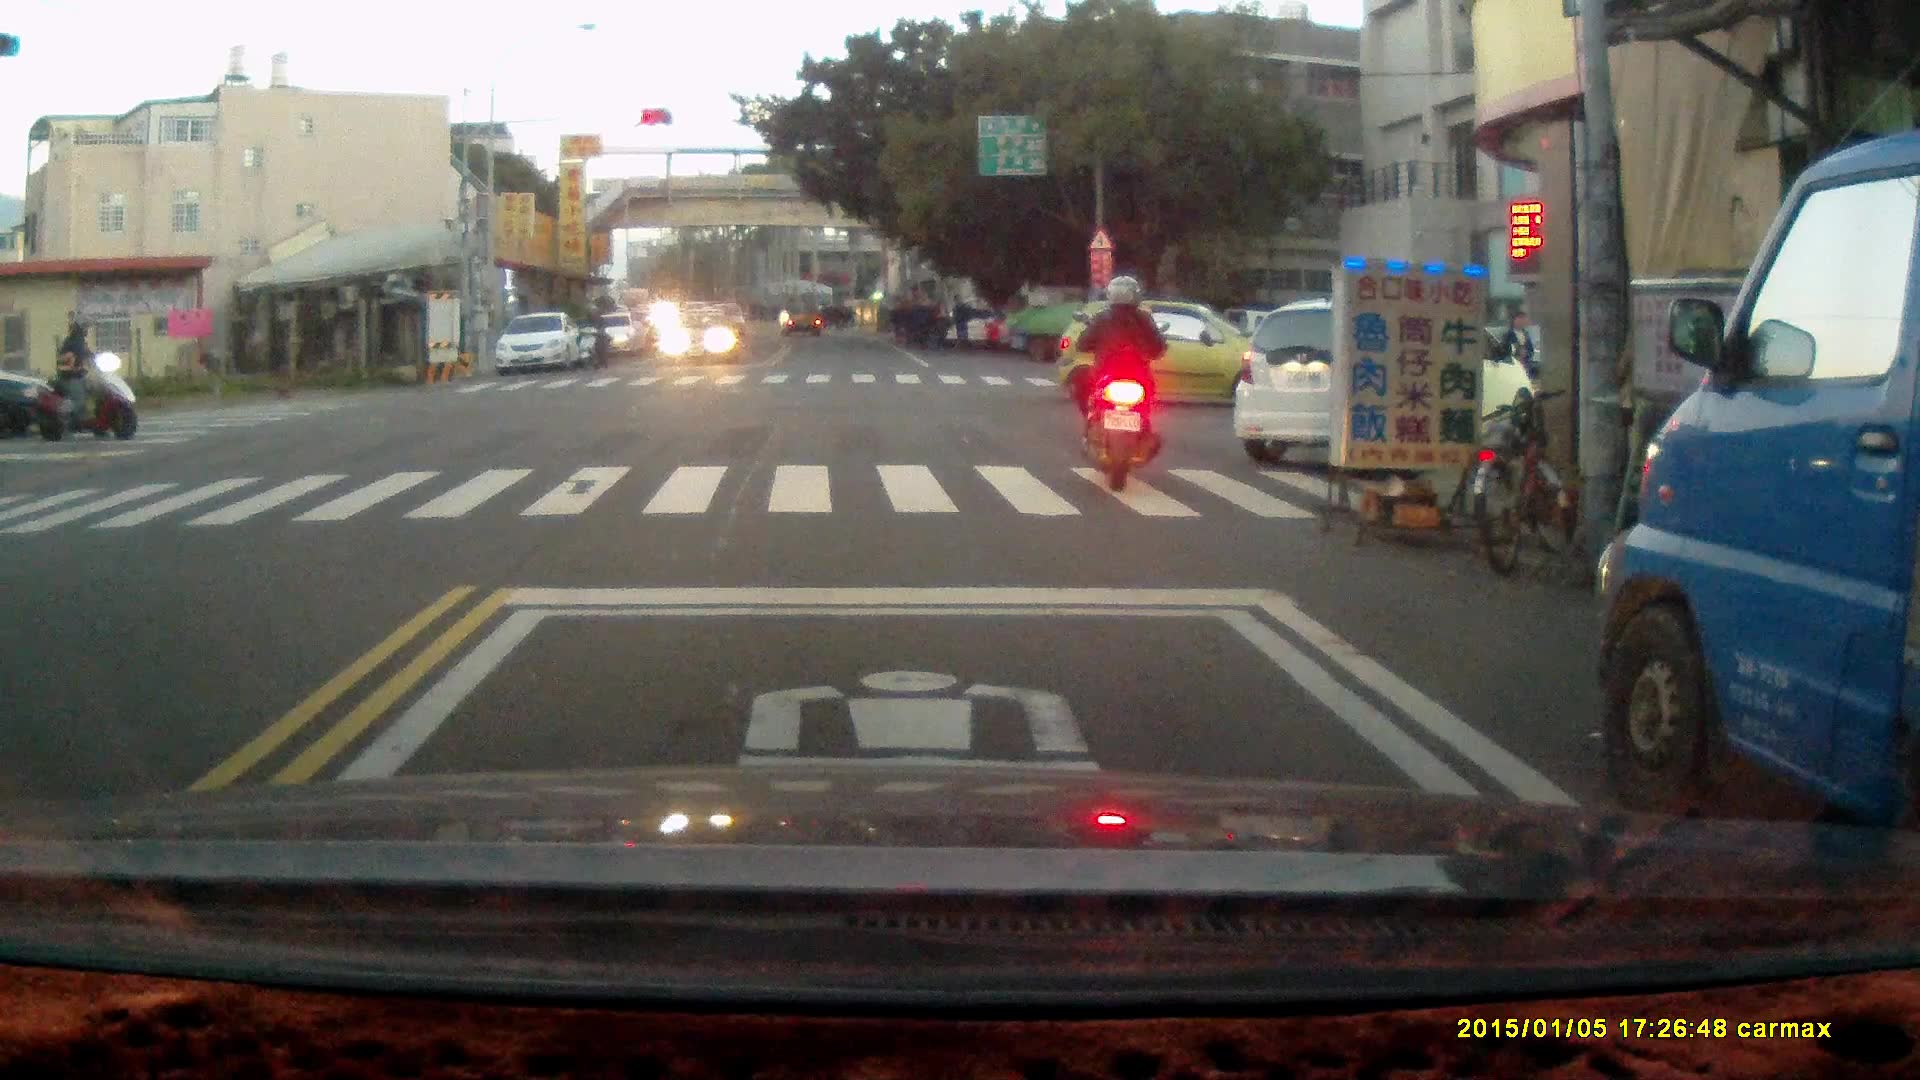pedestrian: (1497, 309, 1533, 386)
rider: (1065, 270, 1173, 492), (33, 317, 148, 441), (576, 299, 608, 372)
vehicle: (1598, 132, 1920, 843), (1233, 296, 1533, 459), (1047, 299, 1264, 412), (1002, 284, 1179, 367), (493, 313, 586, 377), (1, 367, 68, 435), (592, 311, 642, 360), (783, 292, 826, 340)
